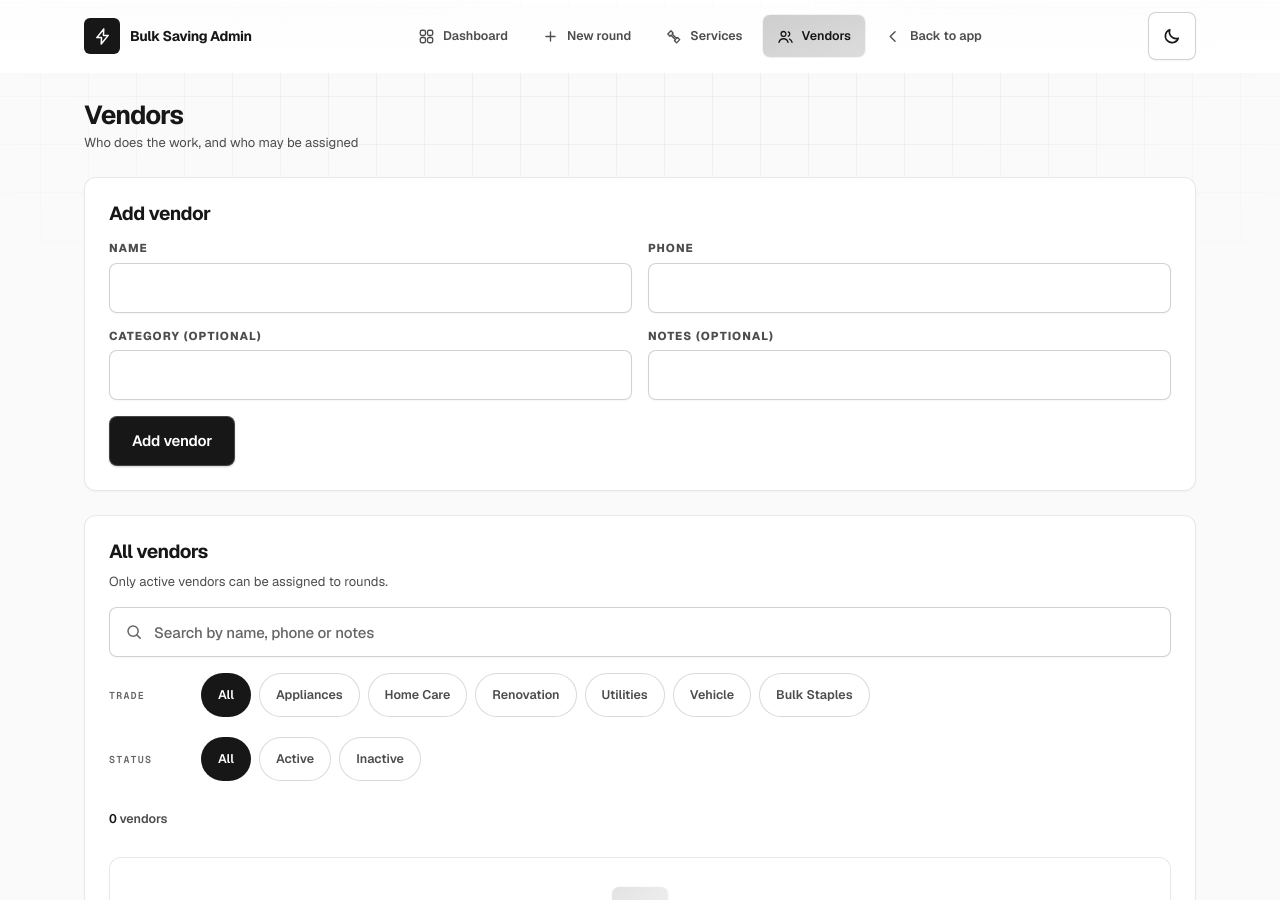
AdminVendorsPage › blocks an invalid phone client-side
Type "CoolFix" into the field labelled "Name".
click(370, 288); type("CoolFix")  # box [109,262,632,312]
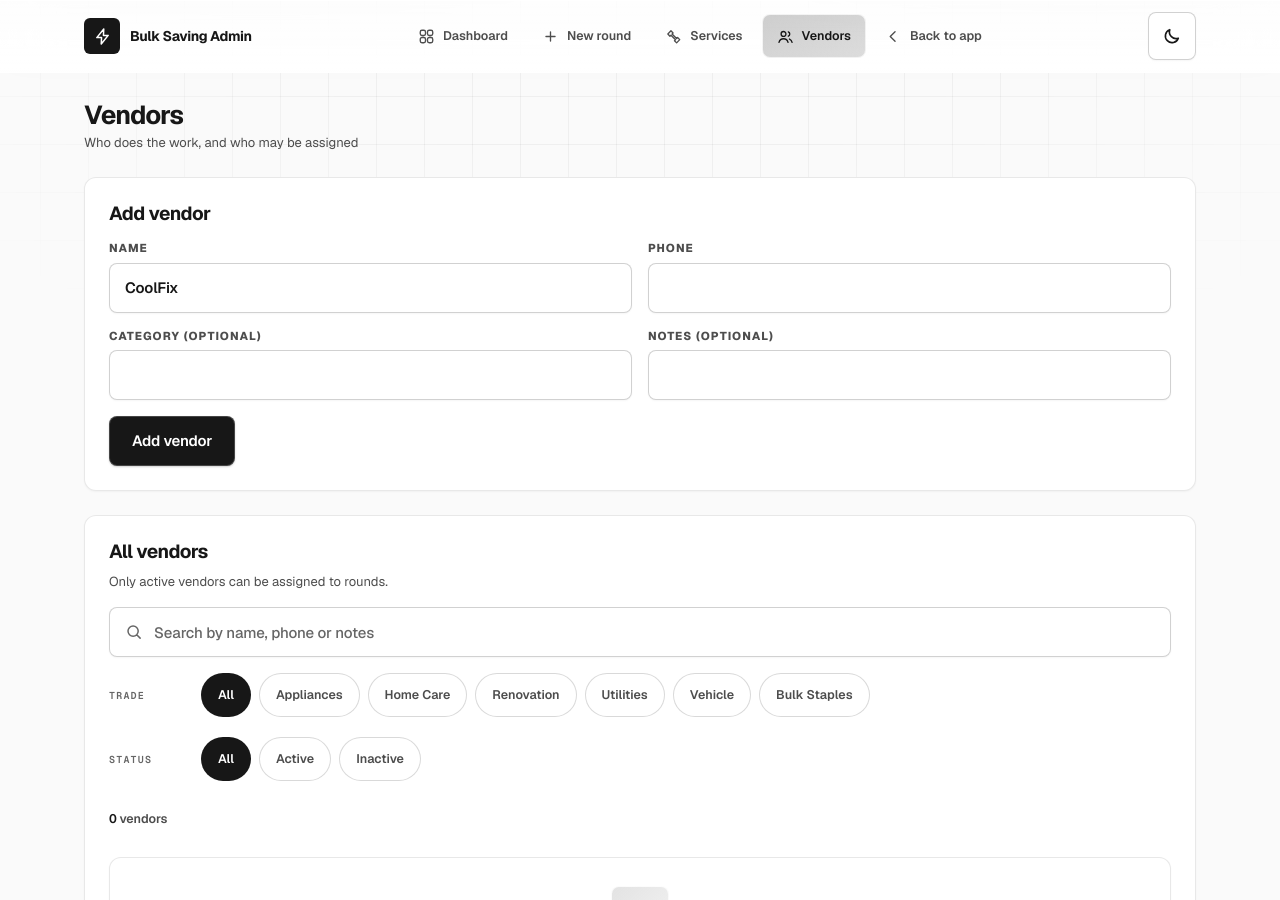
Type "12-34" into the field labelled "Phone".
click(910, 288); type("12-34")  # box [648,262,1171,312]
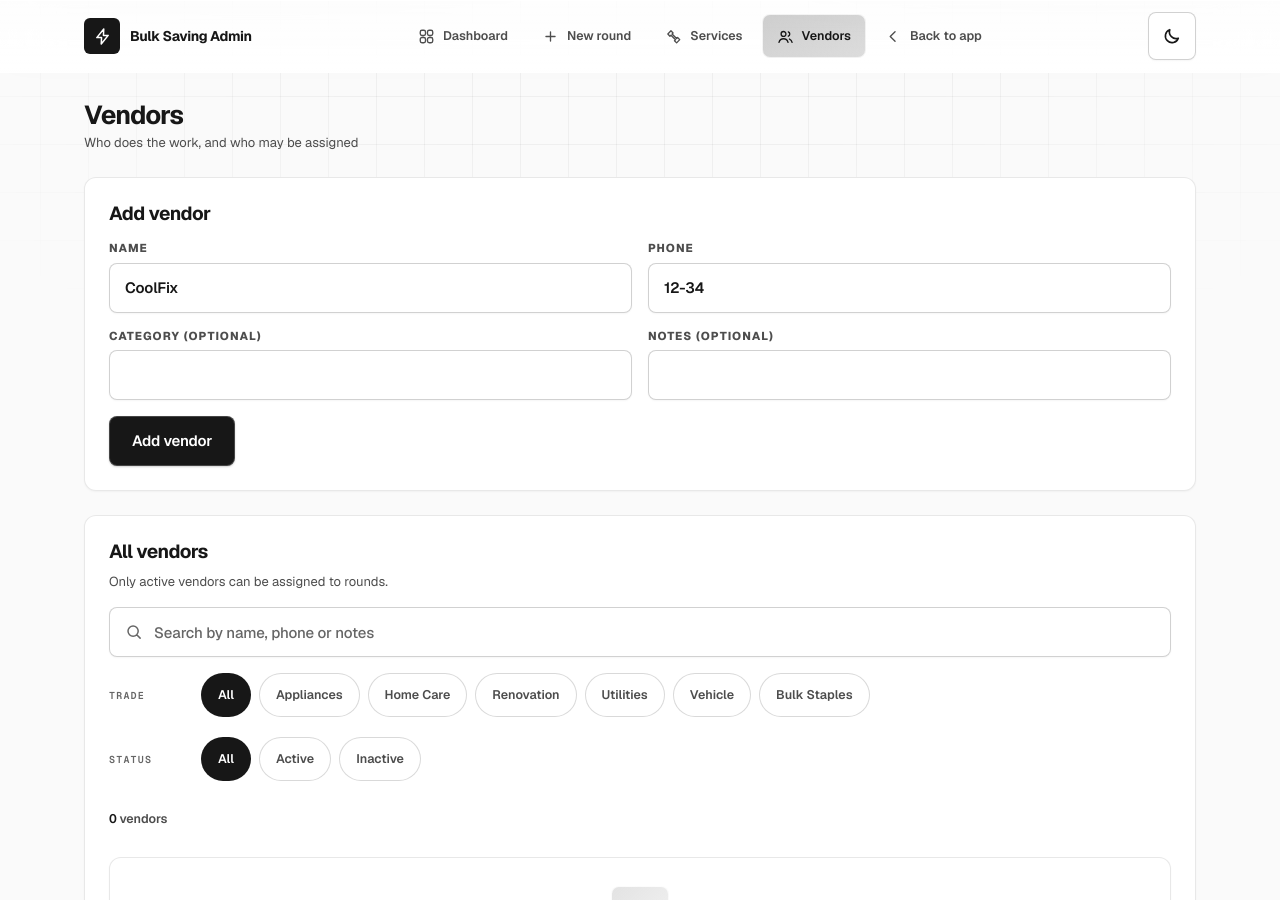
Click the button "Add vendor".
click(172, 441)  # box [109,416,235,466]
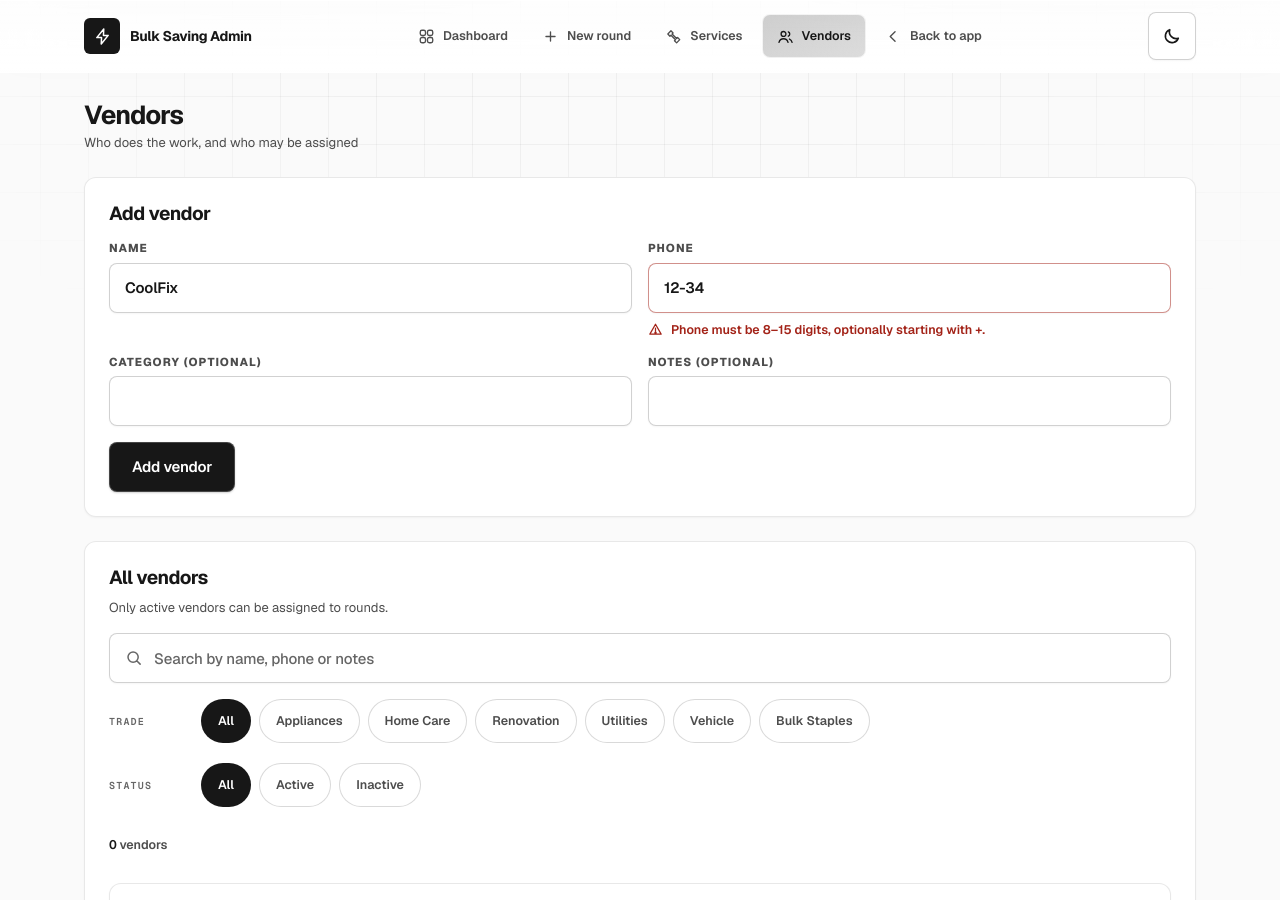
Now the text "Phone must be 8–15 digits, optionally starting with +." is shown, box [648,320,985,338]
